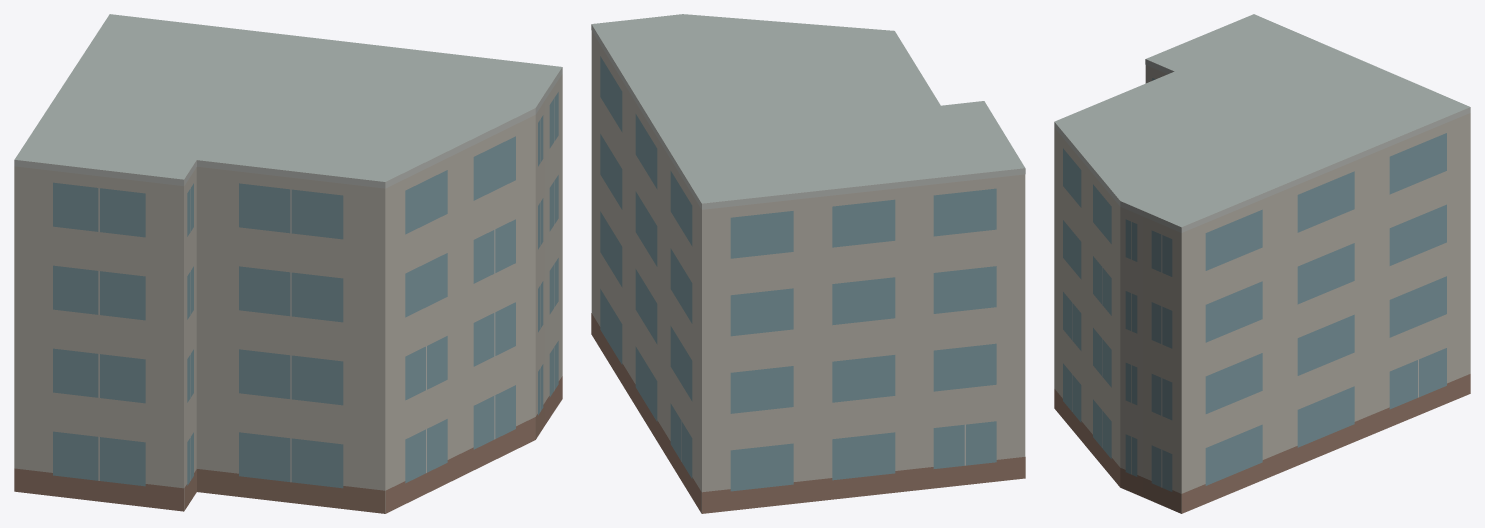
Rendered from residential-8e33b42d-9fb7-4aeb-a67f-a0547f39483e.glb.
3 renders of one model, left to right at view 1: azimuth 30°, elevation 25°; view 2: azimuth 150°, elevation 25°; view 3: azimuth 270°, elevation 25°, orthographic. The views are drawn at different scales.
Parts seen in each view (by area): view 1: residential-8e33b42d-9fb7-4aeb-a67f-a0547f39483e.tmp; view 2: residential-8e33b42d-9fb7-4aeb-a67f-a0547f39483e.tmp; view 3: residential-8e33b42d-9fb7-4aeb-a67f-a0547f39483e.tmp.
Boxes of the visible parts, x1,y1,x2,y2 form: residential-8e33b42d-9fb7-4aeb-a67f-a0547f39483e.tmp: (14,14,562,513); residential-8e33b42d-9fb7-4aeb-a67f-a0547f39483e.tmp: (591,14,1025,513); residential-8e33b42d-9fb7-4aeb-a67f-a0547f39483e.tmp: (1054,14,1470,513).
Bounding box in the file's own units: 19.48 × 12.2 × 16.07.
